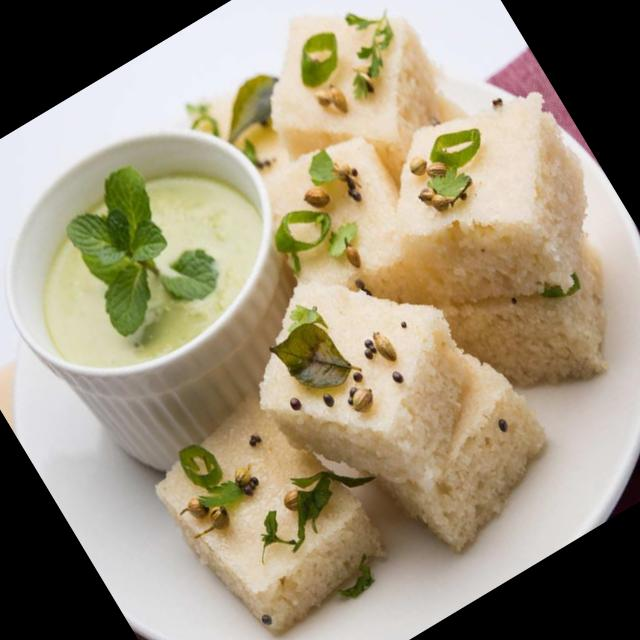dhokla: (134, 276, 560, 640), (191, 0, 516, 293)
